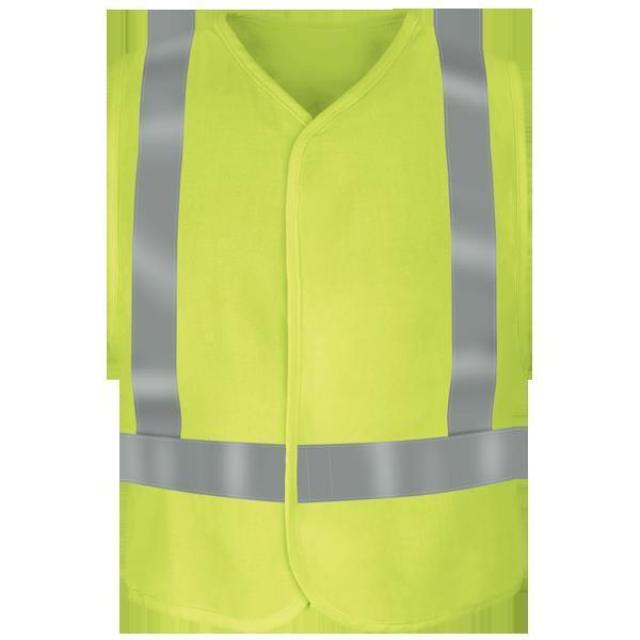Vest: (105, 7, 531, 634)
